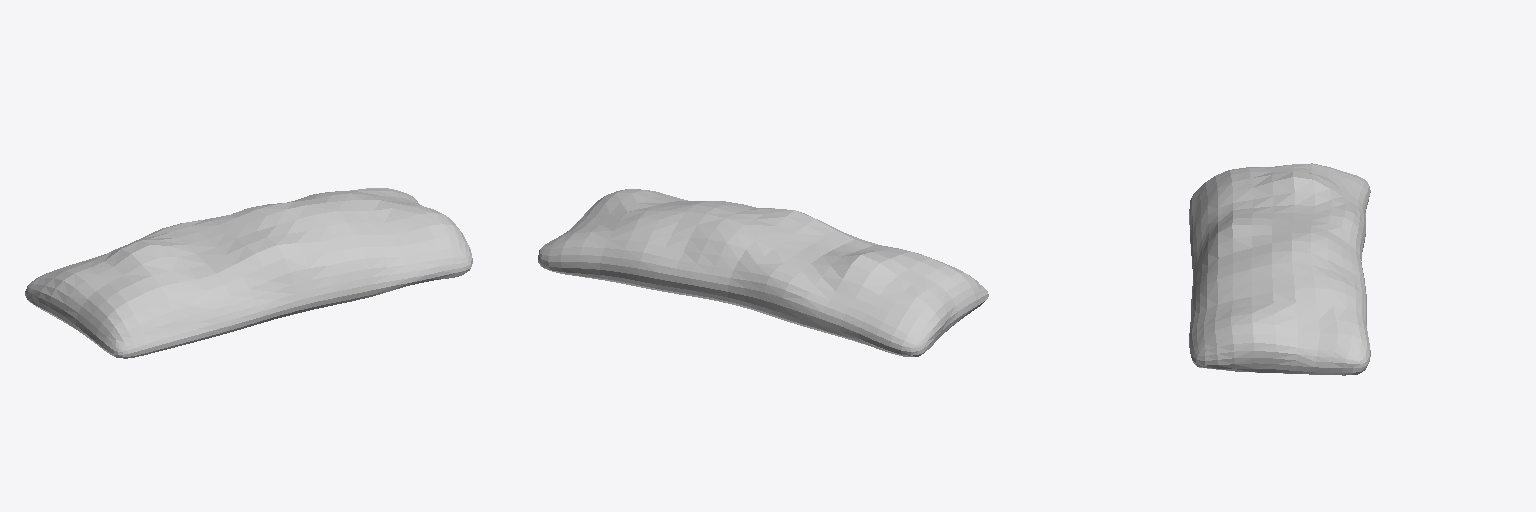
Rendered from Comida_low.obj.
3 views of the same model, side by side, from view 1: azimuth 30°, elevation 25°; view 2: azimuth 150°, elevation 25°; view 3: azimuth 270°, elevation 25° (orthographic).
Parts seen in each view (by area): view 1: subtool1; view 2: subtool1; view 3: subtool1.
Boxes of the visible parts, <box> form: subtool1: <box>25,188,472,358</box>; subtool1: <box>538,189,988,356</box>; subtool1: <box>1189,163,1370,375</box>.
Bounding box in the file's own units: 215 × 35.44 × 87.64.